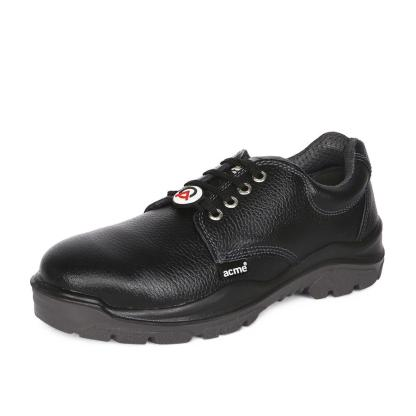bota: (27, 128, 387, 350)
